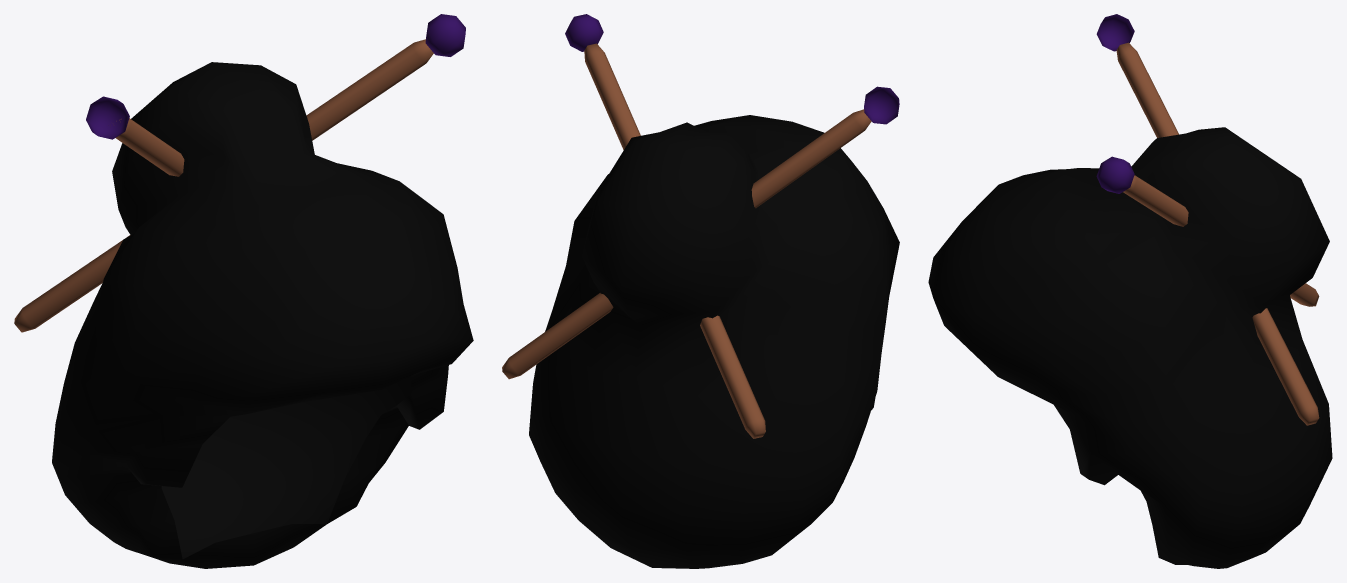
File: NPC_BlackHair4.gltf
3 views of the same model, side by side, from view 1: azimuth 30°, elevation 25°; view 2: azimuth 150°, elevation 25°; view 3: azimuth 270°, elevation 25° (orthographic). The views are drawn at different scales.
Visible parts, largest first — view 1: NPC_BlackHair.004; view 2: NPC_BlackHair.004; view 3: NPC_BlackHair.004.
Part boxes in pixels (left/top/right/bottom): NPC_BlackHair.004: left=14, top=14, right=473, bottom=568; NPC_BlackHair.004: left=502, top=14, right=899, bottom=568; NPC_BlackHair.004: left=928, top=14, right=1332, bottom=568.
Bounding box in the file's own units: 0.6397 × 0.8704 × 0.6909.
1 material, 1 textured.
